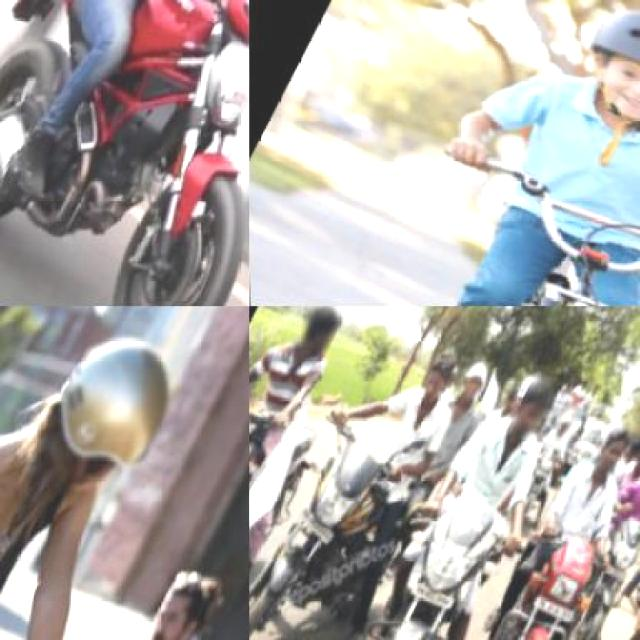With Helmet: (14, 306, 206, 532), (563, 0, 639, 146)
Without Helmet: (405, 342, 469, 421), (502, 373, 562, 452), (578, 417, 638, 495), (288, 306, 352, 365), (447, 349, 499, 414), (540, 406, 585, 460), (626, 442, 639, 489)
